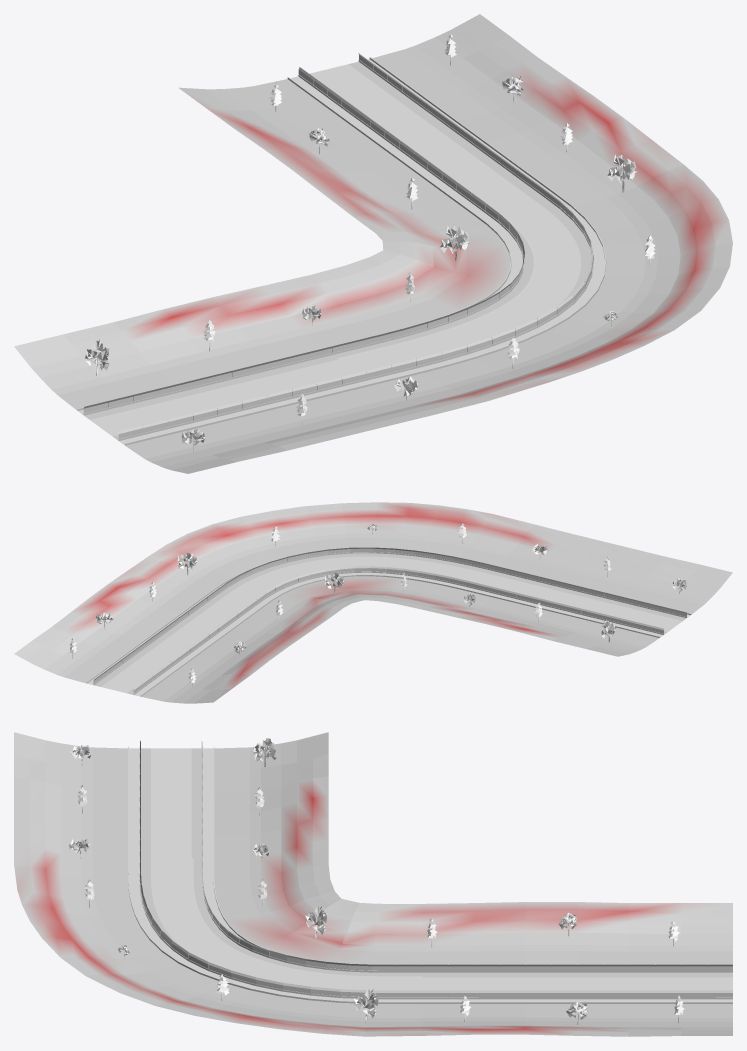
3 views of the same model, one above another, from view 1: azimuth 30°, elevation 25°; view 2: azimuth 150°, elevation 25°; view 3: azimuth 270°, elevation 25° (orthographic). The views are drawn at different scales.
Visible parts, largest first — view 1: Grass, Road, Track, Wirefence, Trees; view 2: Grass, Road, Track, Wirefence, Trees; view 3: Grass, Road, Track, Wirefence, Trees.
Part boxes in pixels (<box>): Grass: <box>14,14,732,473</box>; Road: <box>91,64,580,435</box>; Track: <box>77,57,606,445</box>; Wirefence: <box>83,53,593,438</box>; Trees: <box>85,34,655,451</box>; Grass: <box>14,502,732,703</box>; Road: <box>101,556,681,692</box>; Track: <box>86,547,691,696</box>; Wirefence: <box>94,547,686,693</box>; Trees: <box>69,523,686,686</box>; Grass: <box>14,732,732,1036</box>; Road: <box>151,748,732,990</box>; Track: <box>128,746,732,1003</box>; Wirefence: <box>140,740,732,997</box>; Trees: <box>69,738,684,1024</box>.
Size of what is drawn, in the model's own units: 32000 by 1810 by 32000.
